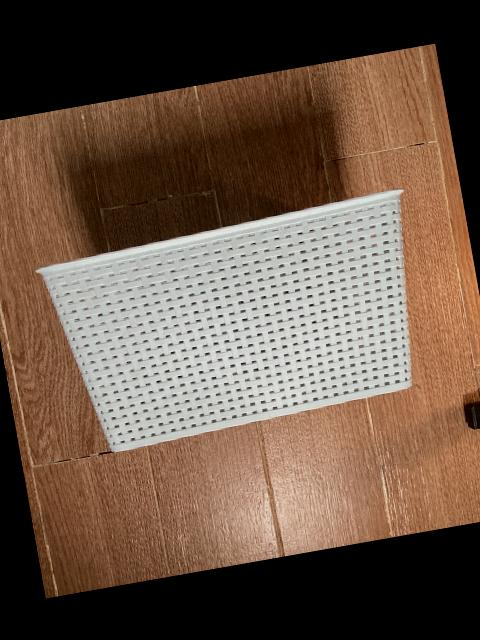cart: (34, 187, 412, 451)
